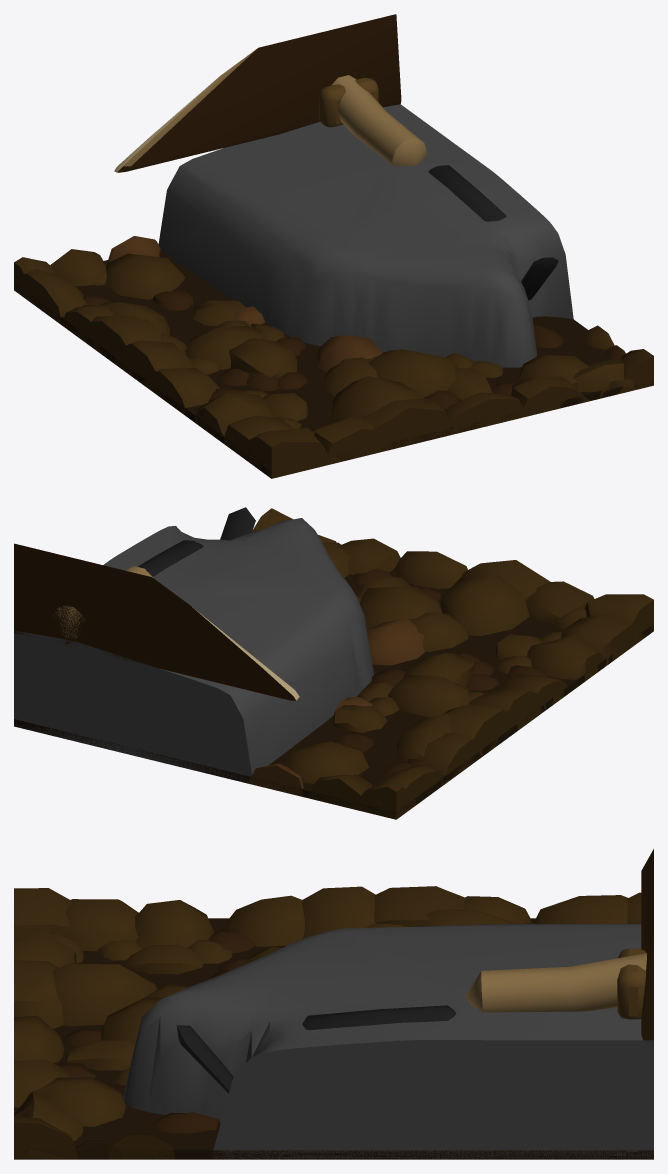
Rendered from gold_pyramid_bl.glb.
The picture shows the model from 3 angles, top to bottom: view 1: azimuth 30°, elevation 25°; view 2: azimuth 150°, elevation 25°; view 3: azimuth 270°, elevation 25°; orthographic projection. The views are drawn at different scales.
Parts seen in each view (by area): view 1: housing, pyramid, dirt_base, rod, dirt_17, dirt_98, dirt_34, dirt_35, dirt_10, slot, dirt_3, dirt_23 (+23 smaller); view 2: housing, pyramid, dirt_base, dirt_3, dirt_11, dirt_4, dirt_35, dirt_34, dirt_112, dirt_2, dirt_77, dirt_104 (+21 smaller); view 3: housing, dirt_base, rod, dirt_3, slot, dirt_52, dirt_104, dirt_60, dirt_4, dirt_23, dirt_112, dirt_98 (+21 smaller).
Part boxes in pixels (x1,y1,x2,y2): housing: (158, 104, 573, 367); pyramid: (114, 14, 401, 172); dirt_base: (14, 250, 653, 477); rod: (331, 75, 426, 166); dirt_17: (244, 427, 333, 478); dirt_98: (362, 398, 452, 454); dirt_34: (368, 349, 457, 398); dirt_35: (105, 253, 185, 299); dirt_10: (314, 418, 398, 465); slot: (428, 165, 558, 300); dirt_3: (331, 376, 422, 420); dirt_23: (115, 340, 193, 399); housing: (14, 518, 373, 783); pyramid: (14, 543, 299, 700); dirt_base: (14, 568, 653, 816); dirt_3: (440, 575, 529, 635); dirt_11: (388, 675, 470, 717); dirt_4: (527, 634, 604, 687); dirt_35: (283, 741, 368, 783); dirt_34: (359, 586, 442, 629); dirt_112: (447, 705, 519, 766); dirt_2: (367, 618, 424, 665); dirt_77: (394, 551, 467, 588); dirt_104: (561, 614, 639, 666); housing: (123, 924, 653, 1159); dirt_base: (14, 918, 653, 1159); rod: (465, 953, 646, 1012); dirt_3: (52, 963, 157, 1026); slot: (176, 1005, 456, 1093); dirt_52: (226, 895, 305, 946); dirt_104: (65, 899, 138, 951); dirt_60: (27, 1077, 126, 1126); dirt_4: (135, 900, 214, 949); dirt_23: (302, 886, 375, 938); dirt_112: (374, 886, 466, 926); dirt_98: (14, 960, 63, 1028).
Bounding box in the file's own units: 24 × 10.98 × 28.
